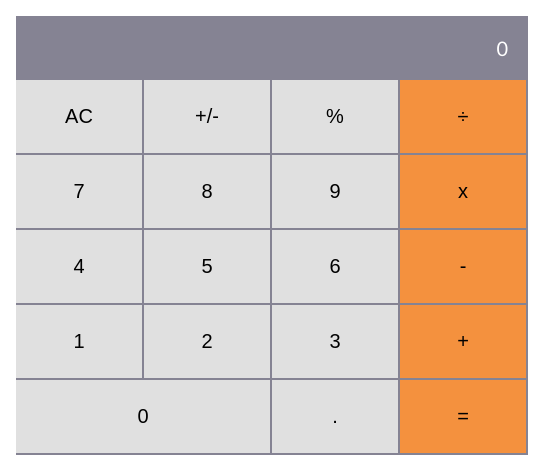
should change symbol when the "+/-" button is clicked
Click the button "9" at coordinates (336, 192), box [272,155,400,230]
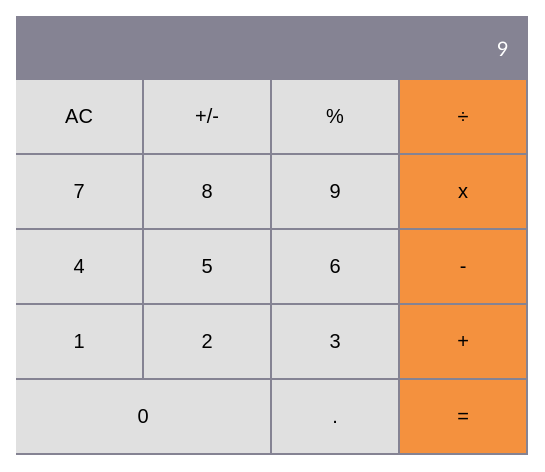
Click the button "+/-" at coordinates (208, 118), box [144,80,272,155]
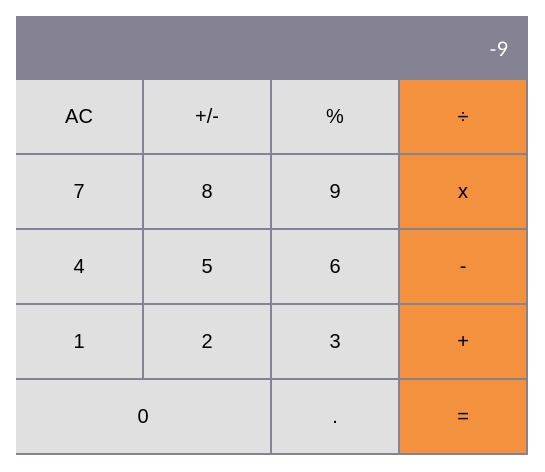
Expected: the text "-9" is shown, [490,36,508,60]
